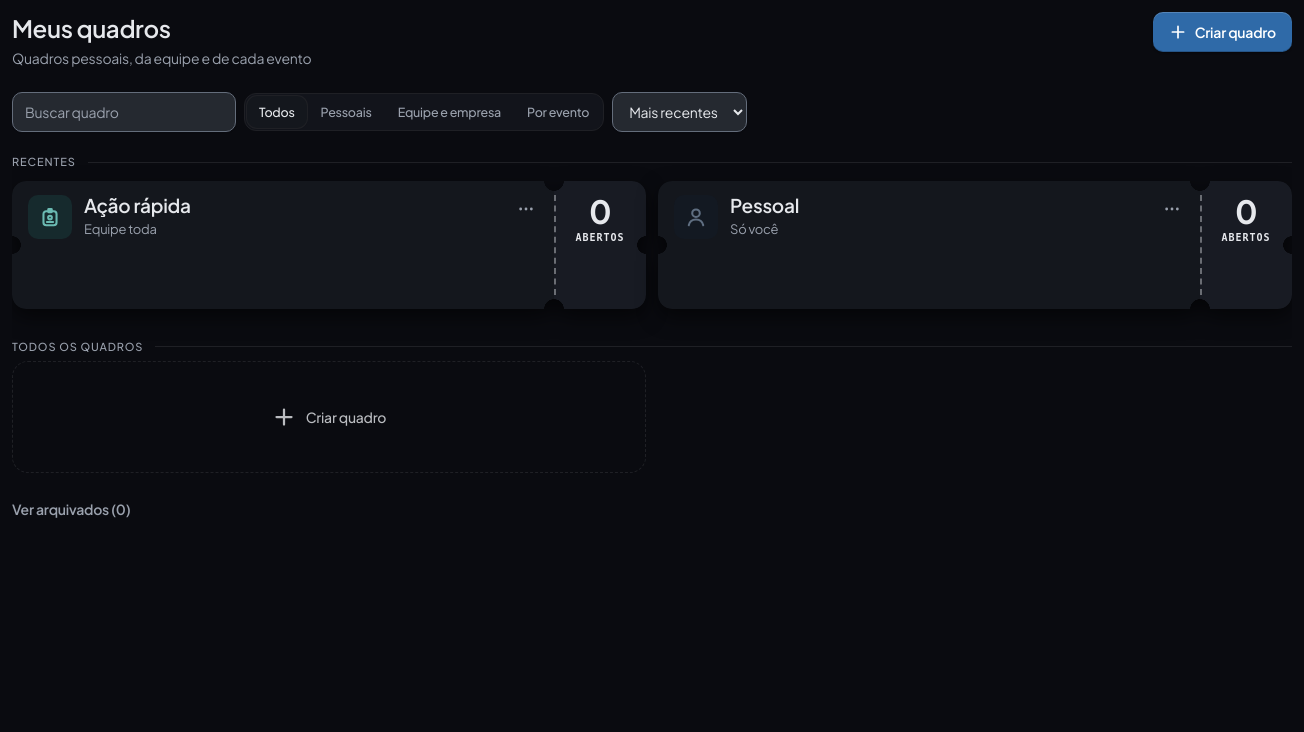
tela Meus quadros › filtro por tipo e busca sem acento; "nenhum encontrado" mantém o botão de criar
This screenshot has width=1304, height=732.
Check: the heading "Recentes" is shown, box [12,155,76,168]
Click the radio button labelled "Pessoais".
click(346, 112)  # box [309,96,384,128]
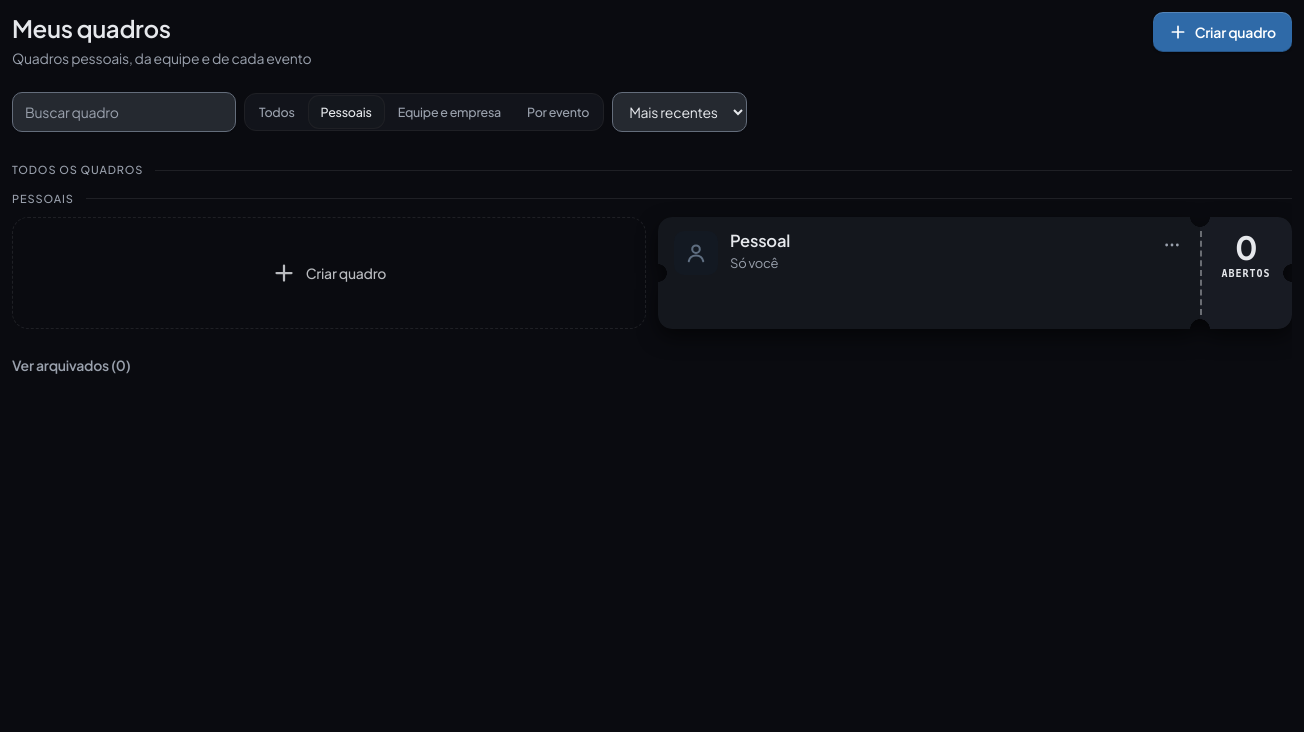
Check: the links read "Pessoal", in this order, box [730,232,790,251]
Type "zzz" into the search field labelled "Buscar quadro".
click(124, 112); type("zzz")  # box [12,92,236,132]
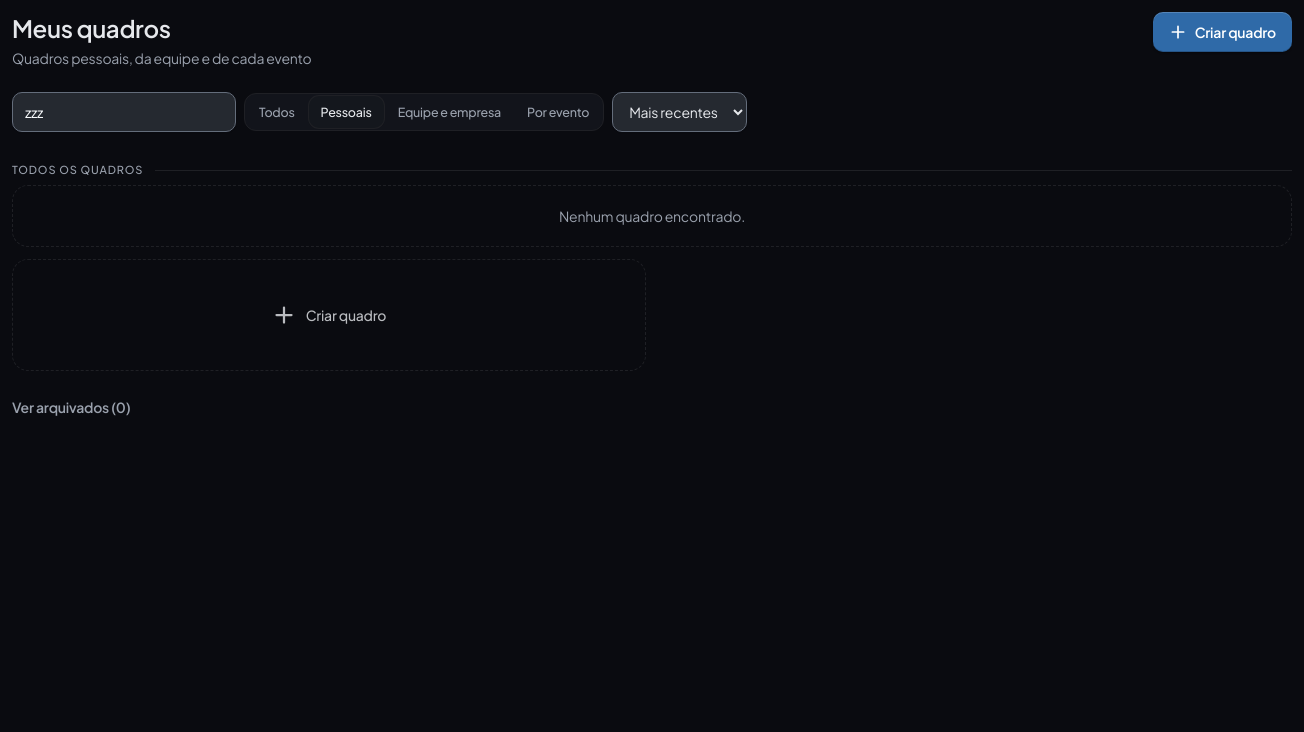
Check: the text "Nenhum quadro encontrado." is shown, box [12,185,1292,247]
Click the radio button labelled "Todos".
click(277, 112)  # box [247,96,307,128]
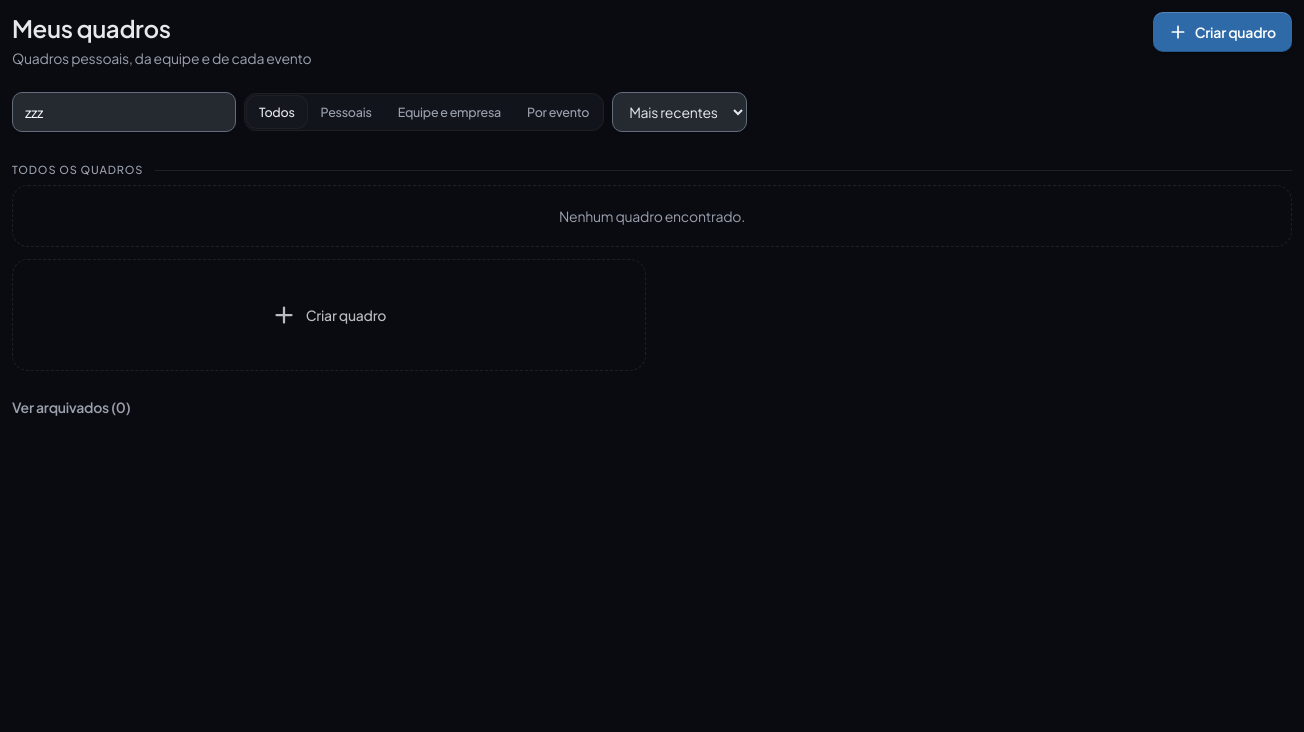
Replace the text in the search field named "Buscar quadro" with "acao" at (124, 112), box [12,92,236,132]
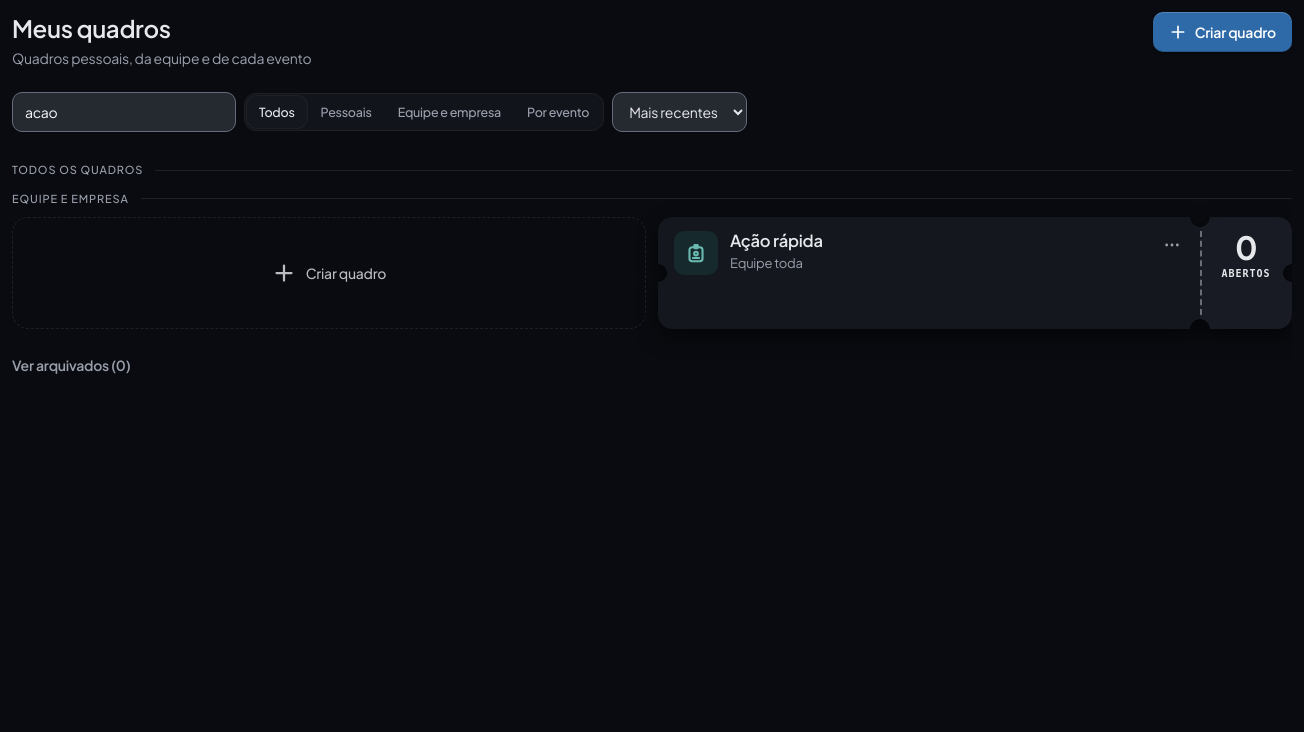
Check: the links read "Ação rápida", in this order, box [730,232,823,251]
